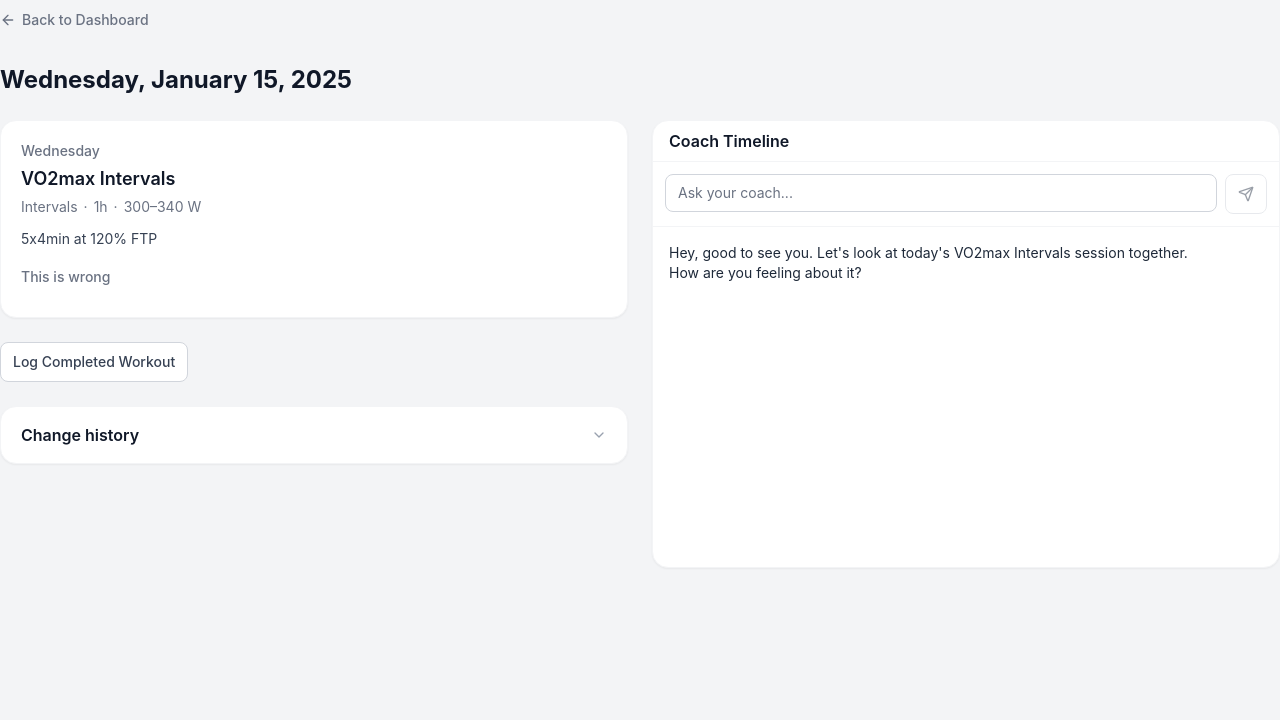
Test: WorkoutPage › shows the coach's follow-up question and suggested tags after logging
Click the button "Log Completed Workout" at (94,362), box [0, 342, 188, 382]
(page scrolled)
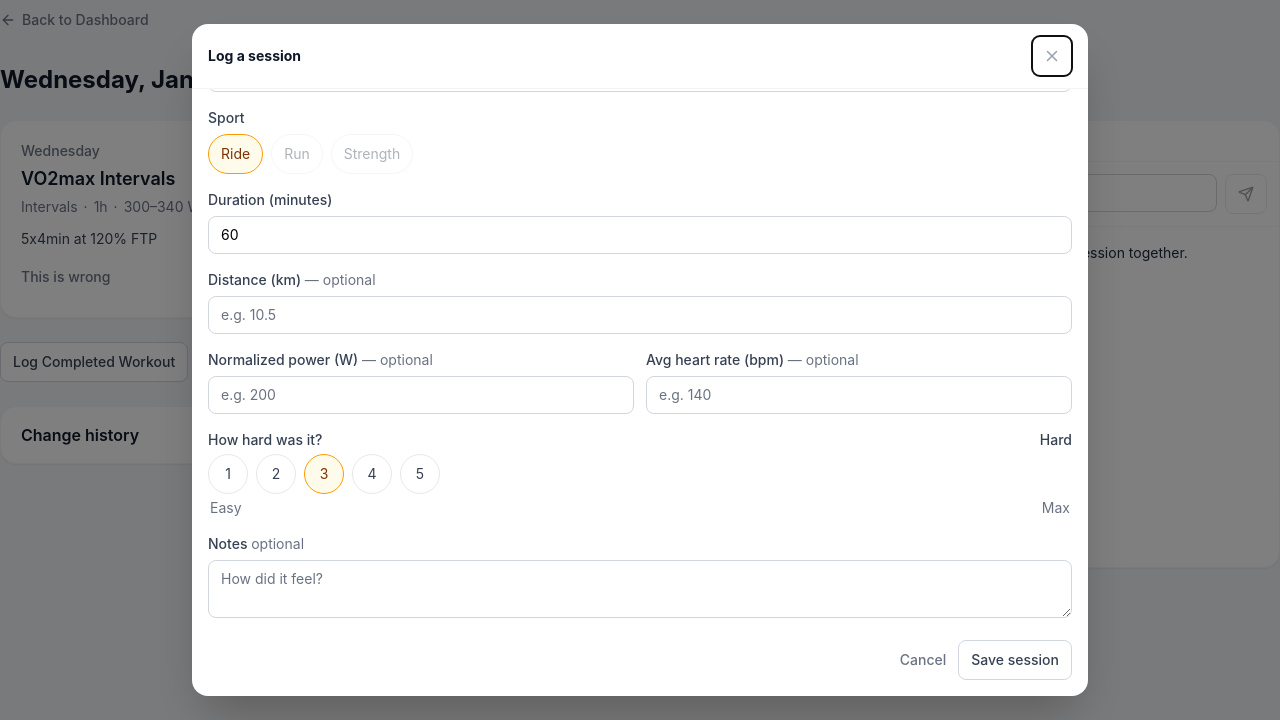
Click the button "Save session" at (1015,660), box [958, 640, 1072, 680]
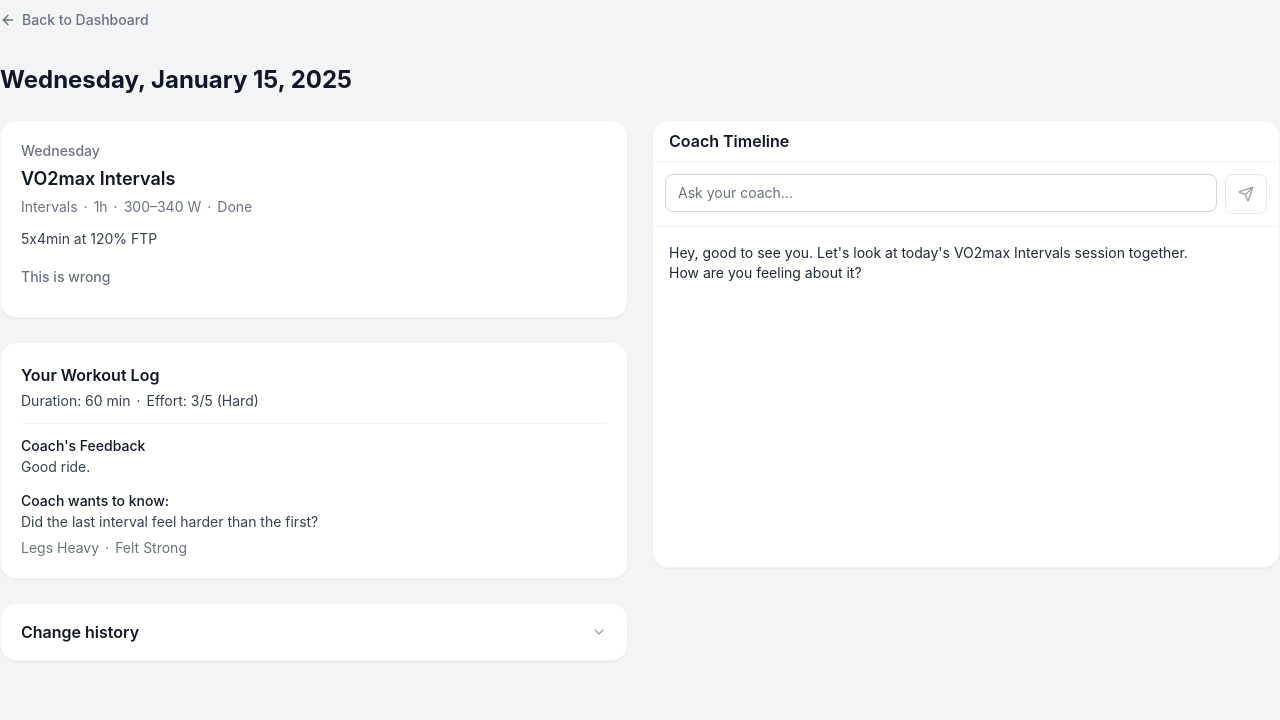
Expected: the text "Did the last interval feel harder than the first?" is shown, [21, 513, 318, 530]
Expected: the text "legs heavy" is shown, [21, 538, 99, 556]
Expected: the text "felt strong" is shown, [99, 538, 187, 556]
